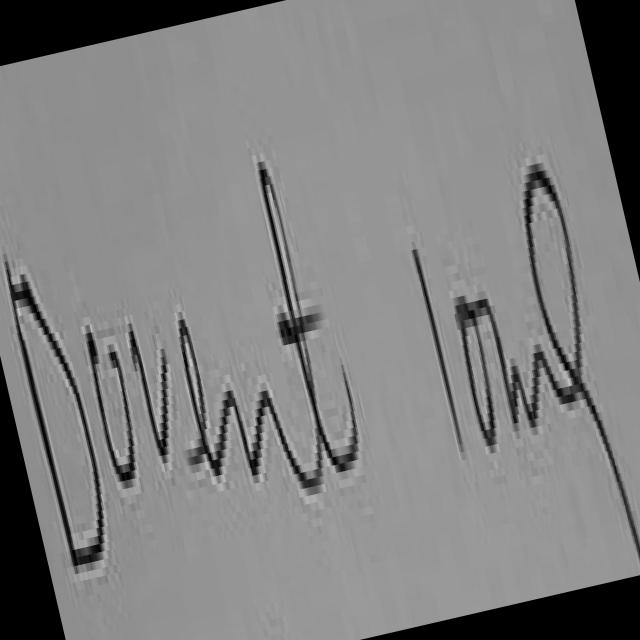0: (456, 305, 495, 444)
1: (413, 249, 464, 451)
D: (5, 273, 104, 562)
e: (179, 322, 235, 476)
g: (527, 162, 640, 549)
m: (483, 316, 568, 445)
n: (230, 365, 323, 495)
t: (254, 155, 359, 487)
u: (82, 331, 136, 490)
v: (129, 335, 166, 463)
